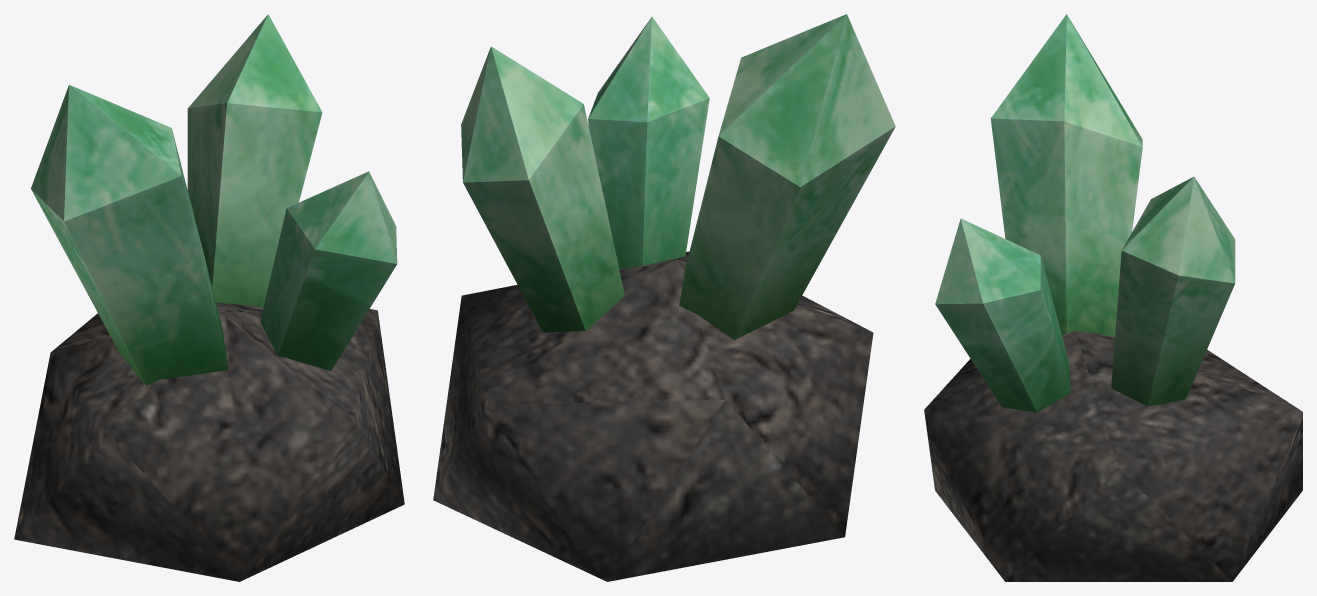
File: VEG0510004.fbx
The picture shows the model from 3 angles, left to right: view 1: azimuth 30°, elevation 25°; view 2: azimuth 150°, elevation 25°; view 3: azimuth 270°, elevation 25°; orthographic projection. The views are drawn at different scales.
Parts seen in each view (by area): view 1: smVEG0510004; view 2: smVEG0510004; view 3: smVEG0510004.
Part boxes in pixels (x1=…): smVEG0510004: x1=14, y1=14, x2=404, y2=581; smVEG0510004: x1=433, y1=14, x2=895, y2=581; smVEG0510004: x1=924, y1=14, x2=1302, y2=581.
Size of the model in its own units: 48.19 by 66.94 by 47.19.
1 material, 1 textured.
